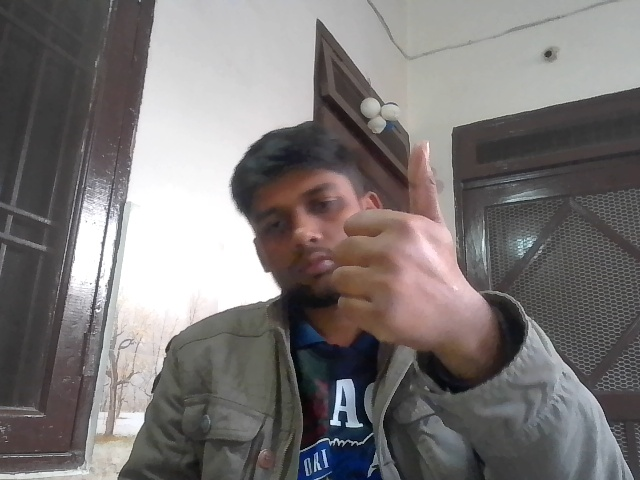BestOfLuck: (329, 140, 454, 346)
